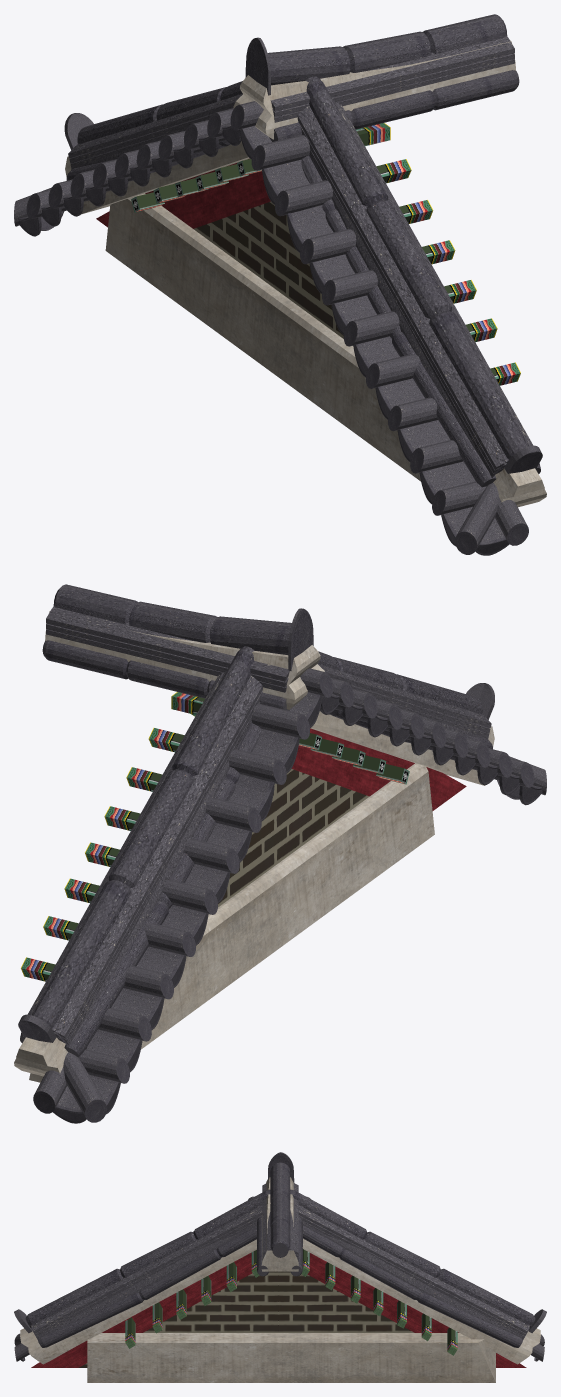
Rendered from SM_R_RoofOuter_3.fbx.
The picture shows the model from 3 angles, top to bottom: view 1: azimuth 30°, elevation 25°; view 2: azimuth 150°, elevation 25°; view 3: azimuth 270°, elevation 25°; orthographic projection. The views are drawn at different scales.
Parts seen in each view (by area): view 1: SM_R_RoofOuter_3; view 2: SM_R_RoofOuter_3; view 3: SM_R_RoofOuter_3.
Part boxes in pixels (bbox=[...]): SM_R_RoofOuter_3: bbox=[14, 14, 546, 555]; SM_R_RoofOuter_3: bbox=[14, 584, 546, 1123]; SM_R_RoofOuter_3: bbox=[14, 1152, 546, 1382].
Bounding box in the file's own units: 188 × 559 × 238.
Materials: 4 (4 with a texture image).
